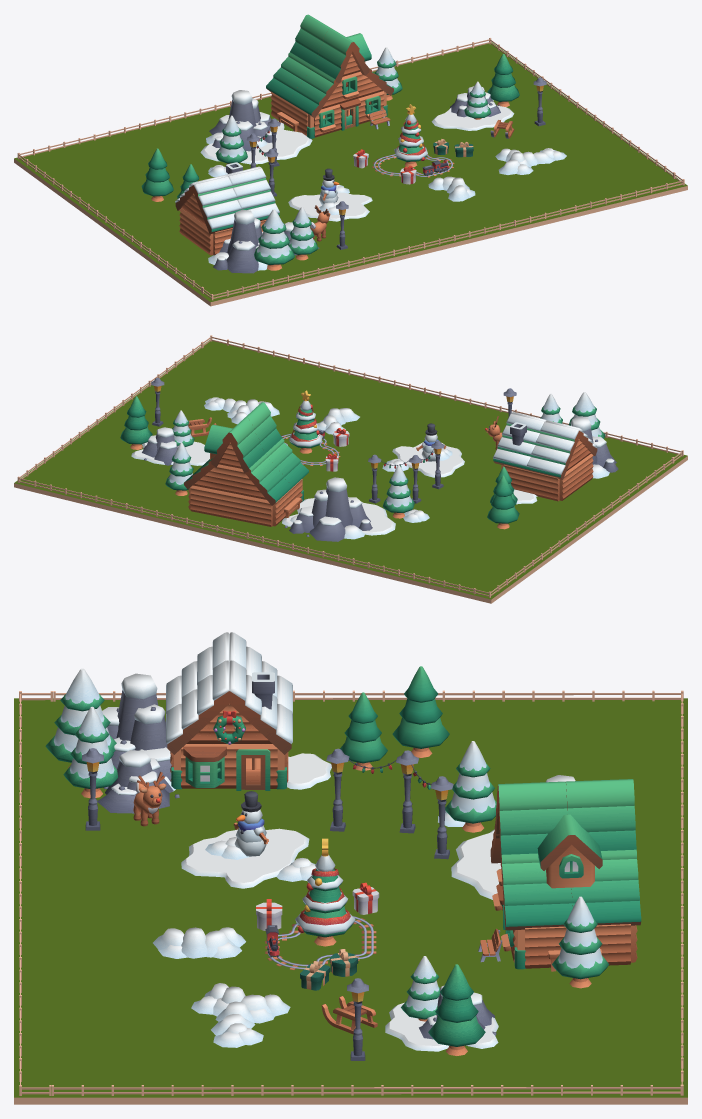
The model's file is Level1Map-v3.glb.
The picture shows the model from 3 angles, top to bottom: view 1: azimuth 30°, elevation 25°; view 2: azimuth 150°, elevation 25°; view 3: azimuth 270°, elevation 25°; orthographic projection. The views are drawn at different scales.
Visible parts, largest first — view 1: cliff_block_rock, rocks-large, rocks-large.001, cabin-roof-snow.001, cabin-roof-snow, cabin-roof-point, tree-snow-a.002, cabin-roof.002, snow-flat-large.002, snow-flat-large.001, cabin-roof.003, tree-decorated-snow.001 (+17 smaller); view 2: cliff_block_rock, rocks-large.001, cabin-roof-snow.002, cabin-roof-snow-chimney, cabin-roof-point.001, cabin-roof.003, tree-decorated-snow.001, snow-flat-large.001, rocks-large, tree.002, tree-snow-a.004, cabin-roof.002 (+18 smaller); view 3: cliff_block_rock, cabin-roof-point, rocks-large, cabin-roof-point.001, cabin-roof, snow-flat-large.001, cabin-roof.001, cabin-roof-dormer, cabin-roof-snow-chimney, tree-decorated-snow.001, cabin-roof-snow, tree-snow-a.003 (+32 smaller).
Part boxes in pixels (x1,y1,x2,y2): cliff_block_rock: (14, 42, 687, 306); rocks-large: (208, 209, 267, 273); rocks-large.001: (206, 90, 276, 151); cabin-roof-snow.001: (193, 176, 241, 234); cabin-roof-snow: (228, 168, 279, 220); cabin-roof-point: (313, 28, 369, 83); tree-snow-a.002: (254, 209, 294, 270); cabin-roof.002: (289, 66, 339, 118); snow-flat-large.002: (200, 120, 312, 164); snow-flat-large.001: (288, 192, 372, 221); cabin-roof.003: (266, 52, 312, 102); tree-decorated-snow.001: (394, 104, 427, 167); cliff_block_rock: (14, 340, 687, 603); rocks-large.001: (284, 477, 372, 541); cabin-roof-snow.002: (526, 421, 579, 479); cabin-roof-snow-chimney: (493, 413, 544, 470); cabin-roof-point.001: (211, 417, 265, 472); cabin-roof.003: (245, 453, 292, 505); tree-decorated-snow.001: (289, 390, 322, 453); snow-flat-large.001: (392, 442, 464, 477); rocks-large: (570, 416, 618, 478); tree.002: (487, 475, 519, 529); tree-snow-a.004: (382, 465, 414, 518); cabin-roof.002: (266, 438, 308, 487); cliff_block_rock: (14, 698, 687, 1104); cabin-roof-point: (495, 781, 567, 860); rocks-large: (102, 673, 175, 791); cabin-roof-point.001: (565, 779, 636, 850); cabin-roof: (501, 853, 572, 930); snow-flat-large.001: (181, 828, 309, 888); cabin-roof.001: (571, 849, 641, 925); cabin-roof-dormer: (537, 814, 602, 888); cabin-roof-snow-chimney: (229, 660, 292, 754); tree-decorated-snow.001: (295, 838, 355, 946); cabin-roof-snow: (166, 660, 229, 754); tree-snow-a.003: (552, 896, 609, 988).
Size of the model in its own units: 151 by 27.72 by 108.
Materials: 330 (116 with a texture image).
